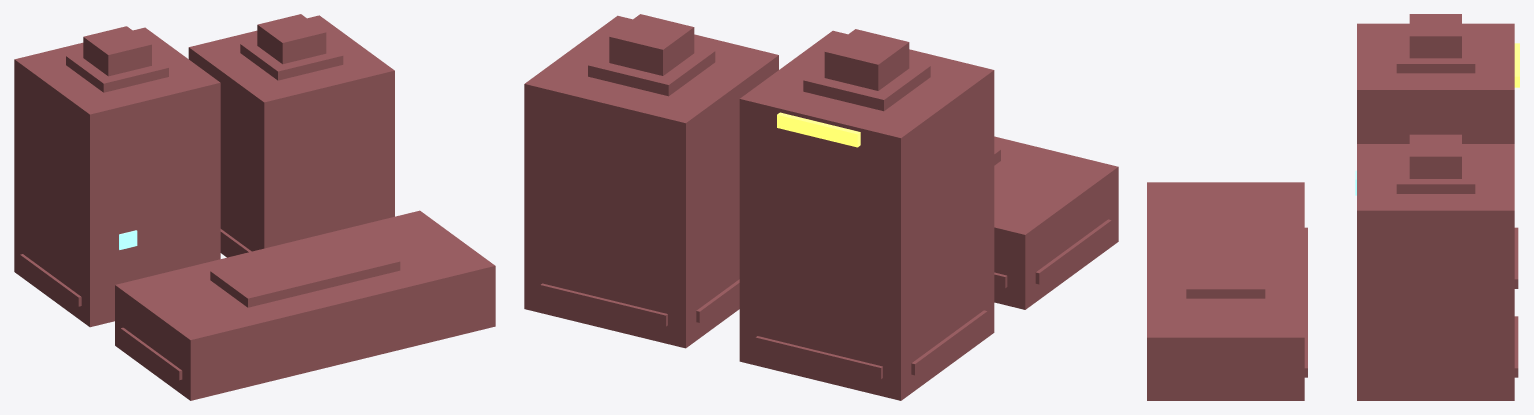
Rendered from energy_plant_lod0-RFkGTLmy.glb.
3 renders of one model, left to right at view 1: azimuth 30°, elevation 25°; view 2: azimuth 150°, elevation 25°; view 3: azimuth 270°, elevation 25°, orthographic. The views are drawn at different scales.
Visible parts, largest first — view 1: body; view 2: body, sign; view 3: body.
Part boxes in pixels (<box>): body: <box>14,14,495,400</box>; body: <box>524,14,1118,400</box>; sign: <box>777,112,860,147</box>; body: <box>1147,14,1518,400</box>.
Size of the model in its own units: 0.848 by 0.64 by 0.852.
